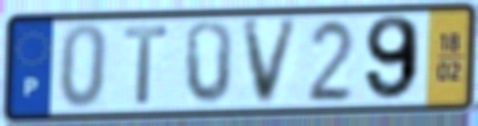0: (53, 20, 113, 114), (182, 19, 235, 109)
2: (305, 16, 359, 105)
9: (363, 12, 427, 105)
T: (122, 23, 171, 107)
V: (239, 15, 304, 109)
